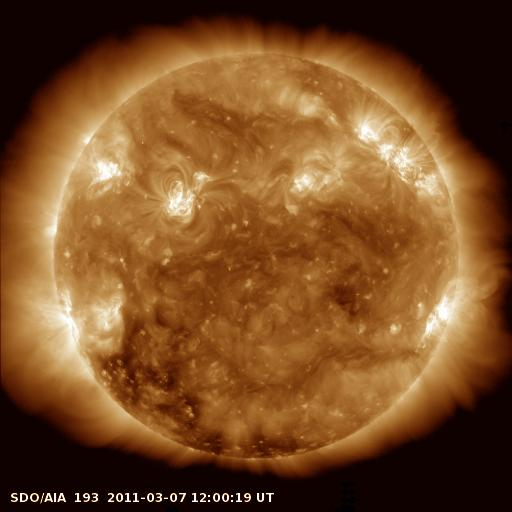coronal_hole: (169, 427, 304, 465)
